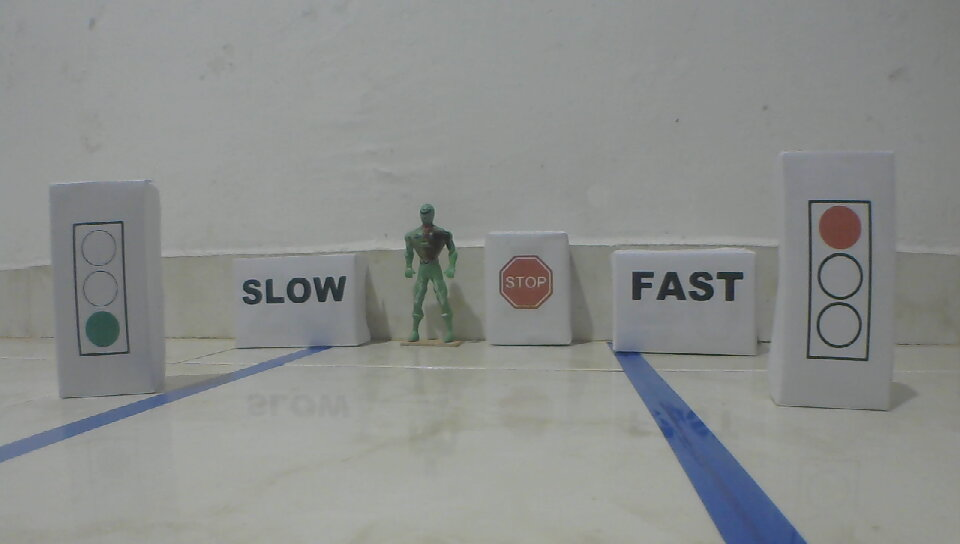Fast: (630, 267, 745, 304)
Green Traffic Light: (71, 220, 133, 358)
Person: (401, 200, 462, 347)
Red Traffic Light: (804, 196, 873, 367)
Slow: (239, 276, 349, 306)
Stop Sign: (498, 253, 556, 312)
